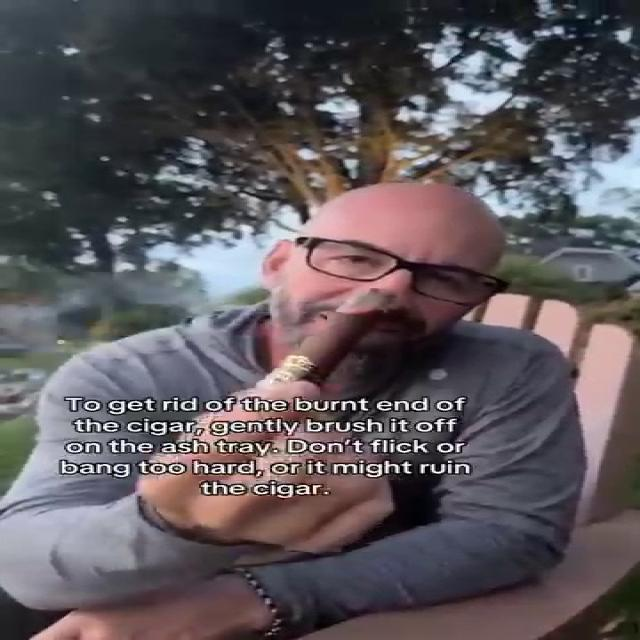Cigarette: (271, 291, 392, 388)
Hand: (130, 383, 407, 557)
